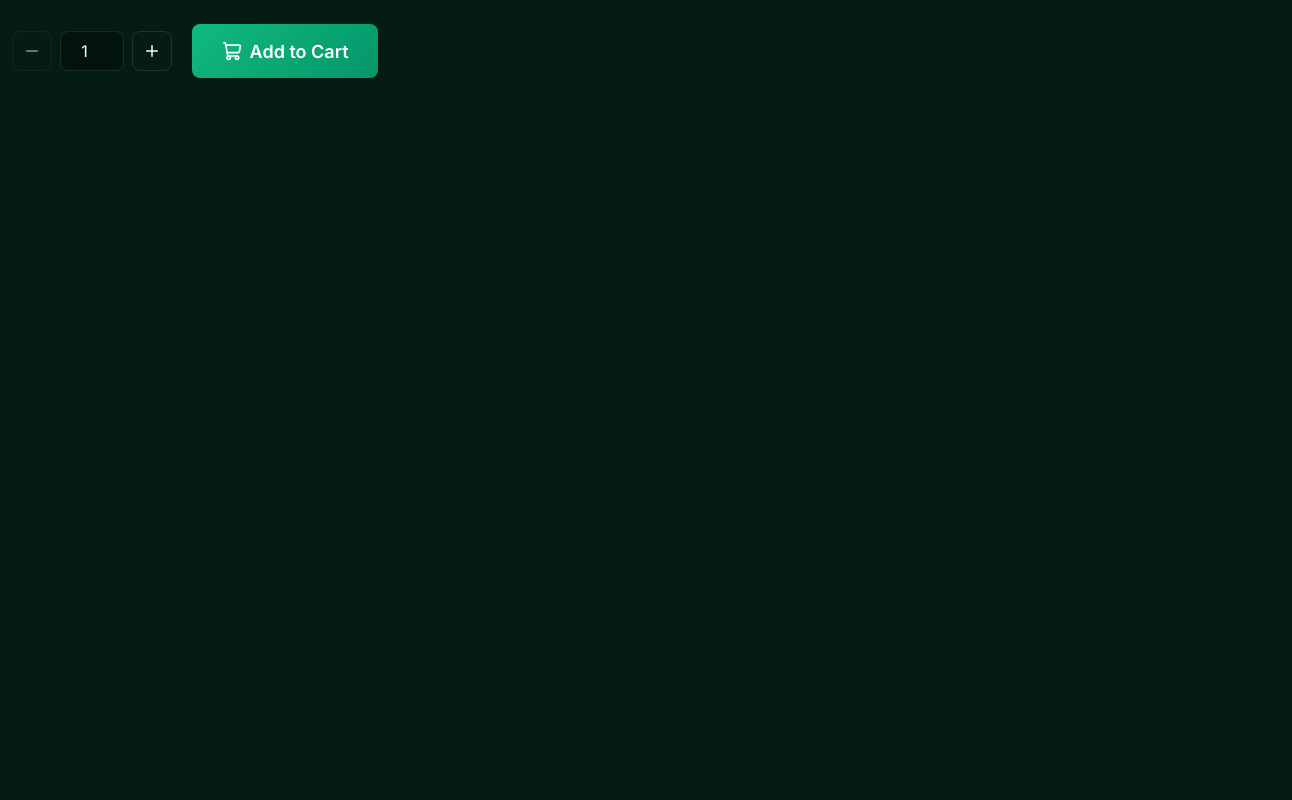
Scenario: ProductActions — Add to Cart (FD-10) › shows an inline error and preserves user input when the API rejects
This screenshot has width=1292, height=800.
Click the button named "Increase quantity": (152, 51) [132, 31, 172, 71]
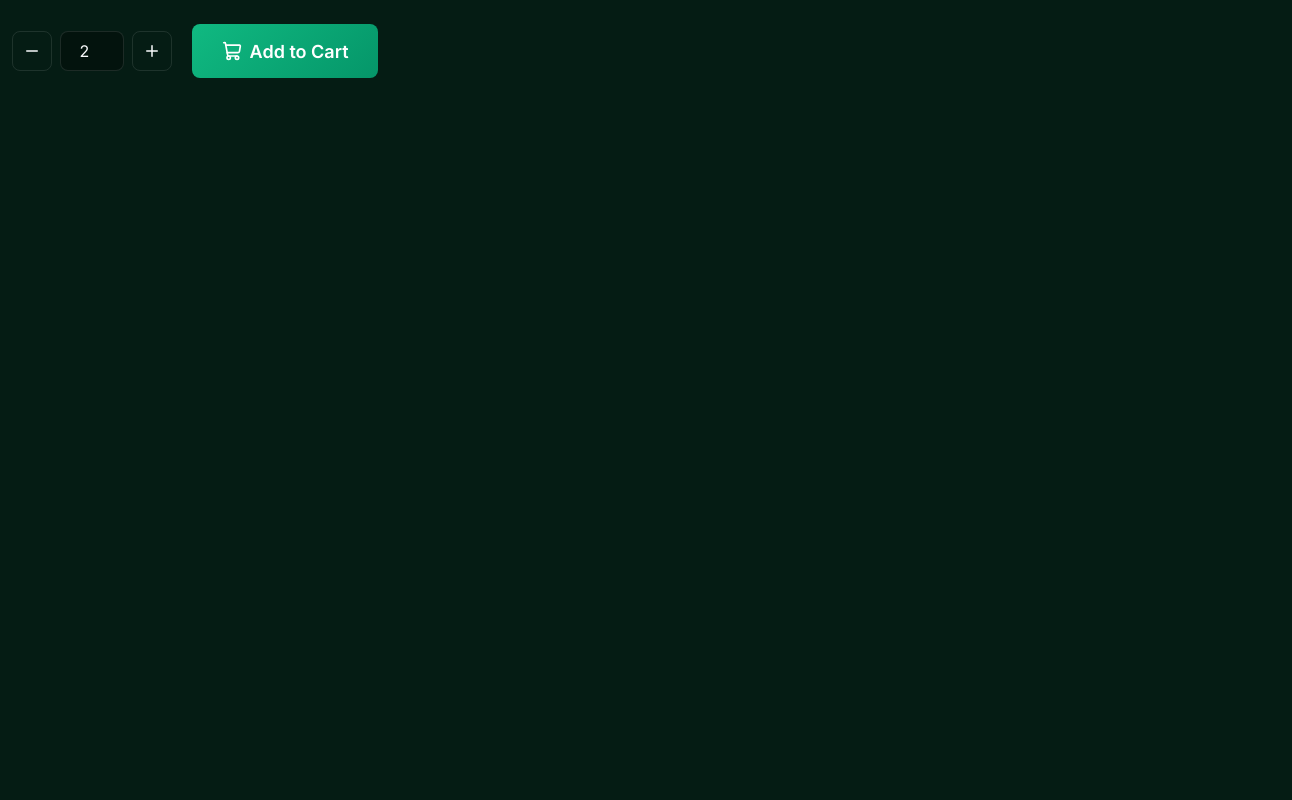
Click the button "Add to Cart": (285, 51) [192, 24, 378, 78]
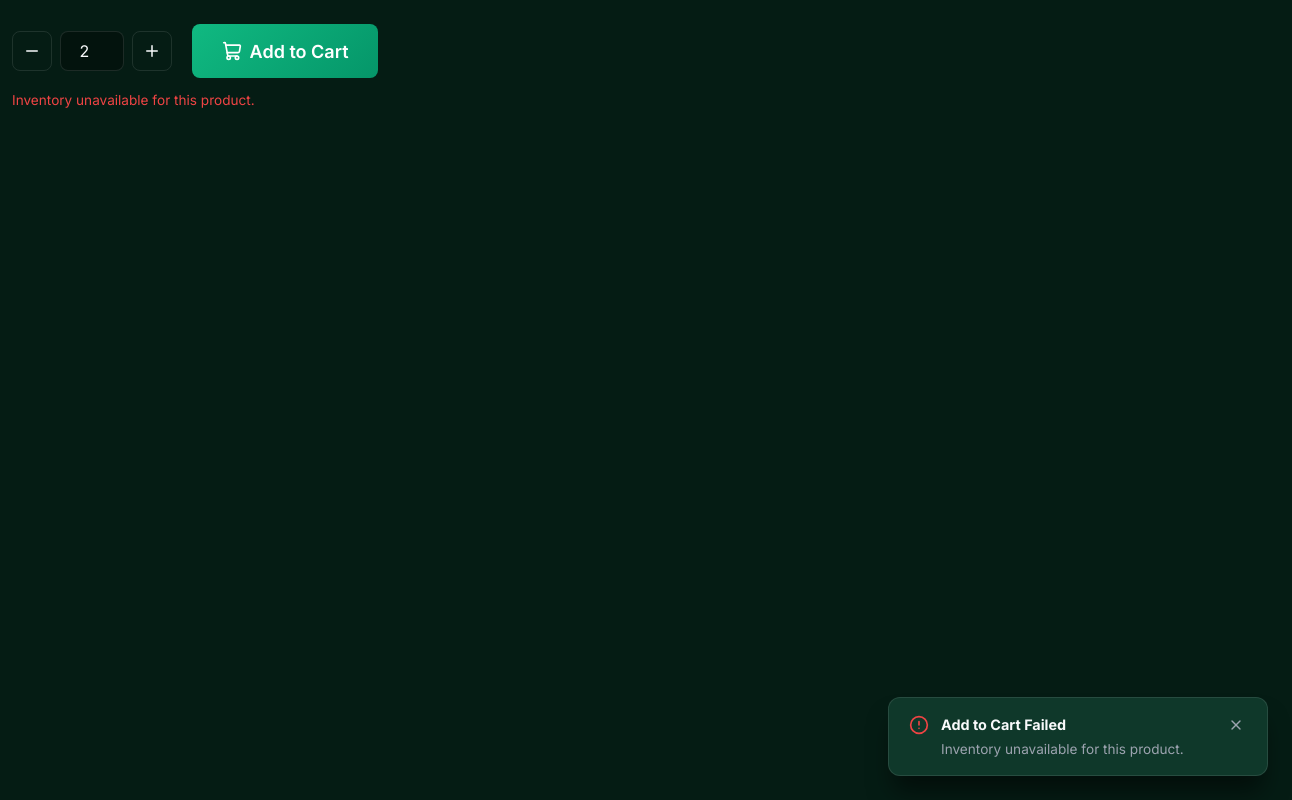
Check: the number field named "Quantity" holds "2", box [60, 31, 124, 71]
Check: the message with test id "add-to-cart-error" reads "Inventory unavailable for this product.", box [12, 92, 255, 108]
